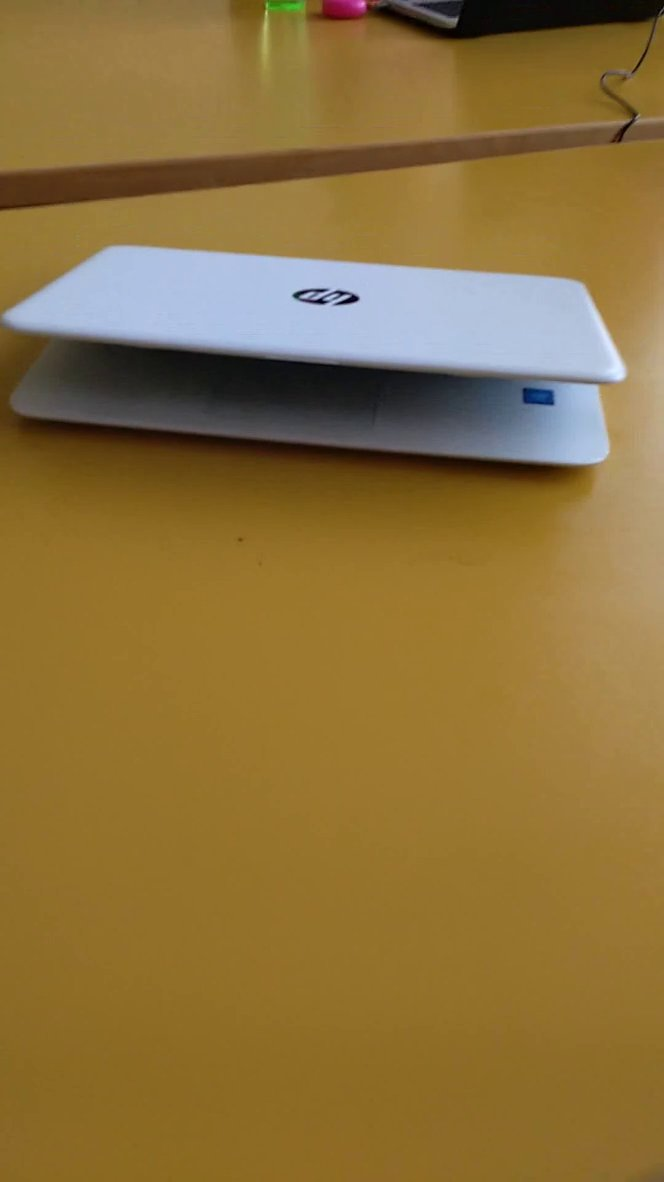laptop: (3, 201, 646, 516)
